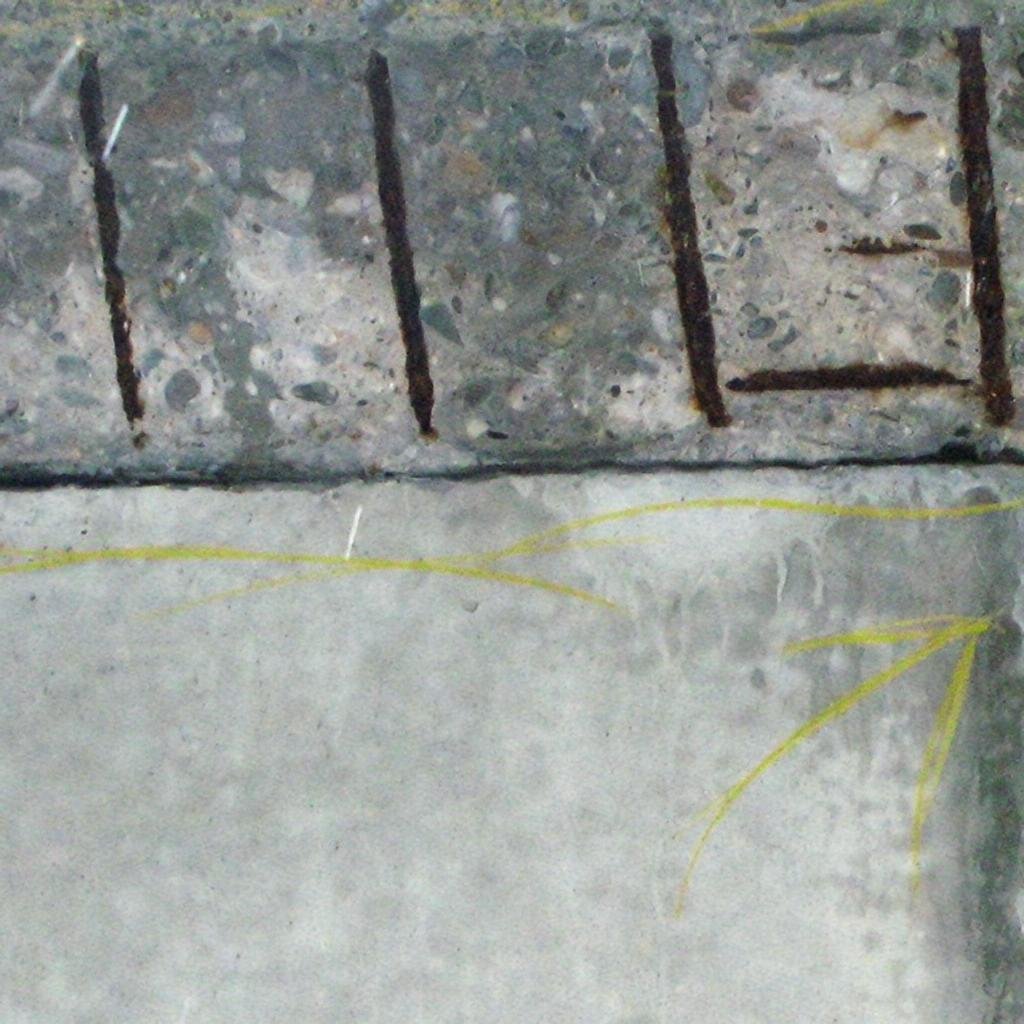exposed_rebar: (650, 28, 732, 427), (366, 50, 436, 436), (78, 50, 144, 423), (954, 26, 1014, 426), (726, 362, 970, 392)
